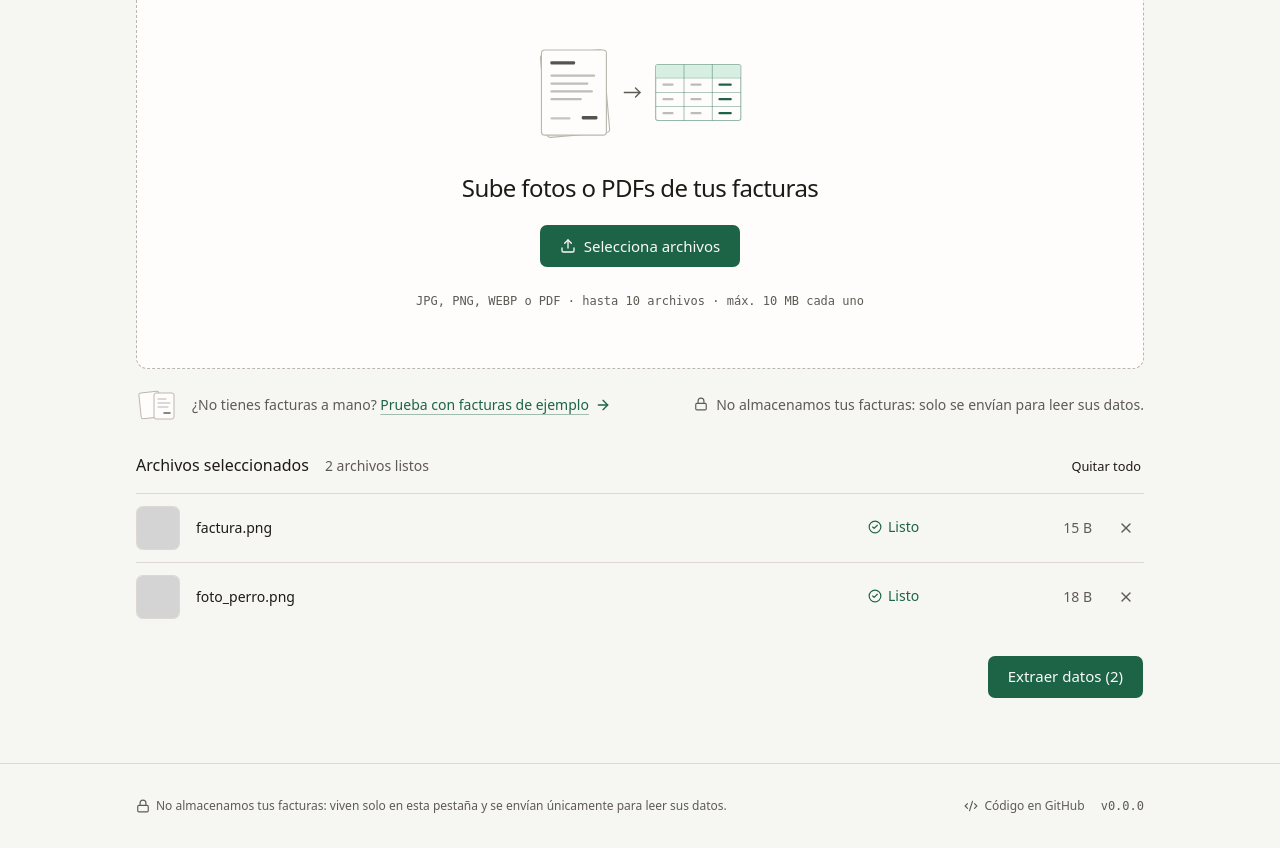
Test case: Upload → extract › keeps failed files with their reason and lets the user retry them
Earlier steps of the test are not shown.
Later steps or results of the test are not shown.
(page scrolled)
Click the button "Extraer datos (2)" at [1065, 676], box [987,654,1144,698]
(page scrolled)
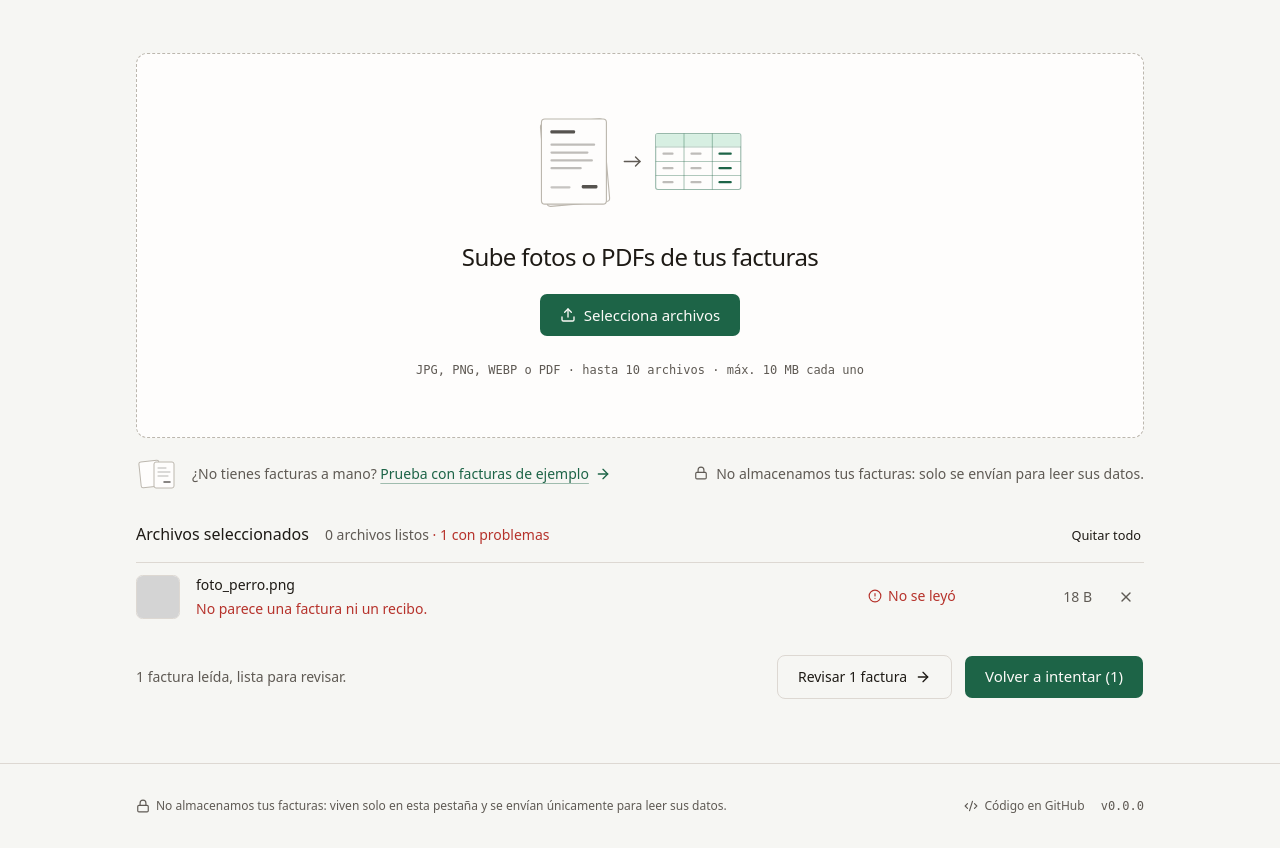
Expected: the list item "foto_perro.png" is shown, [196,574,295,594]
Expected: the text "factura.png" is gone
Expected: the text "1 factura leída, lista para revisar." is shown, [136,666,346,686]
